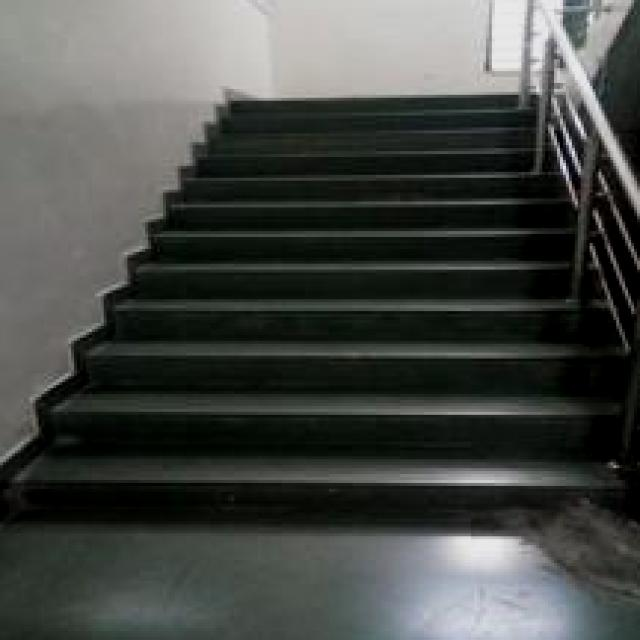upstair: (19, 295, 588, 547)
